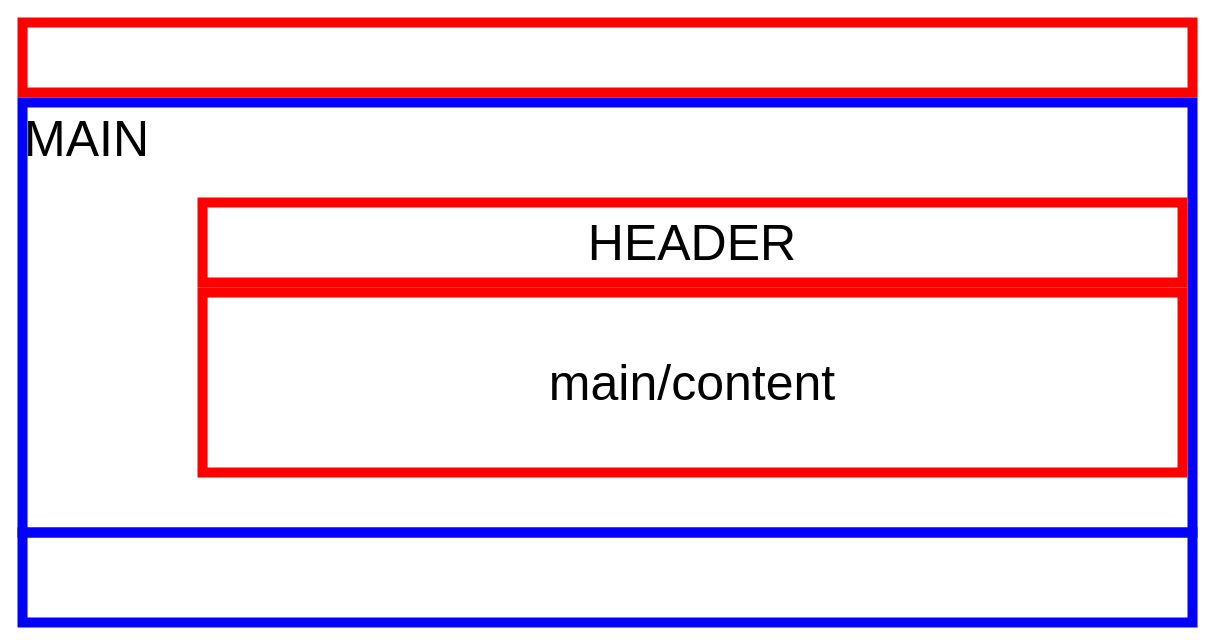
Image size: 1214x644. Some labels were removed from this diagram. The box of each missing label's shape, as (x1, y1, x2, y2) in pixels:
FOOTER: (17, 527, 1197, 627)
NAV: (17, 17, 1197, 97)
